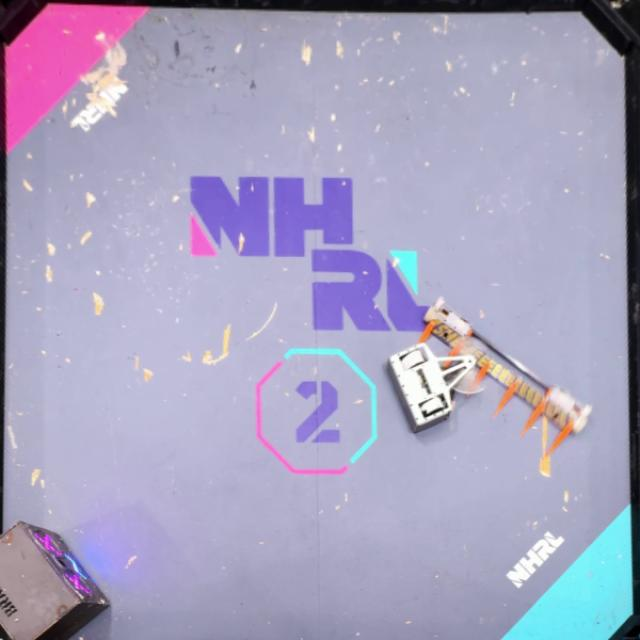housebot: (0, 520, 110, 640)
robot: (417, 300, 594, 454), (388, 341, 491, 434)
